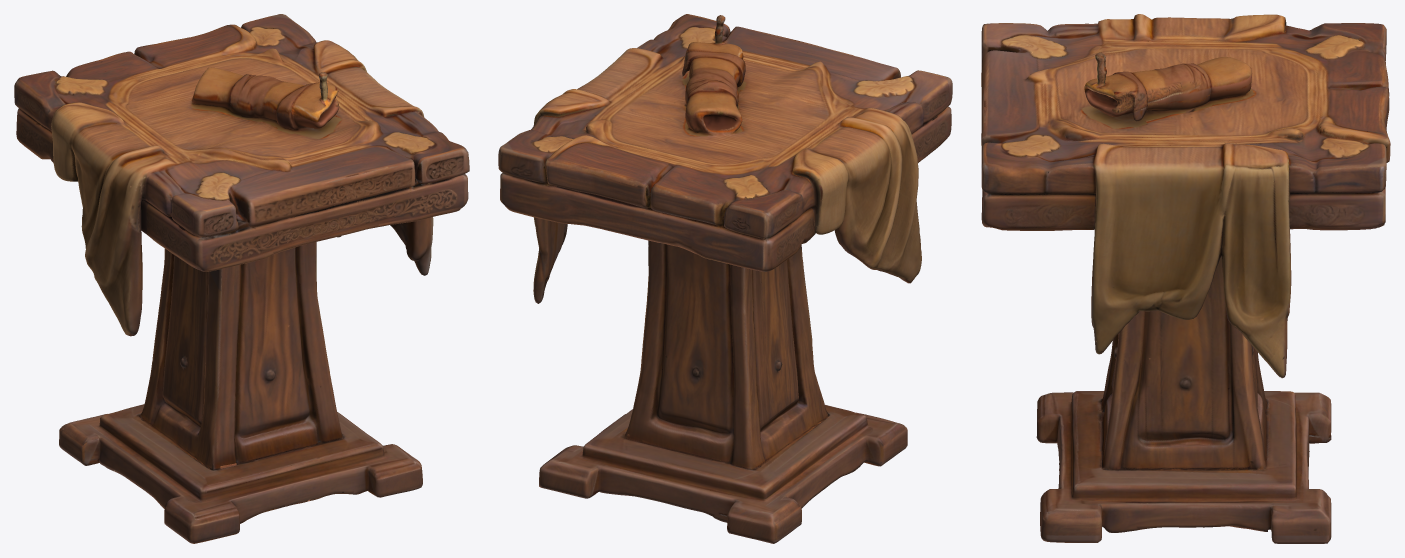
File: Mystic_Scroll_Table_0613145415_texture.fbx
The picture shows the model from 3 angles, left to right: view 1: azimuth 30°, elevation 25°; view 2: azimuth 150°, elevation 25°; view 3: azimuth 270°, elevation 25°; orthographic projection. The views are drawn at different scales.
Visible parts, largest first — view 1: input; view 2: input; view 3: input.
Boxes of the visible parts, <box> form: input: <box>14,14,469,543</box>; input: <box>498,14,952,543</box>; input: <box>981,14,1390,543</box>.
Size of the model in its own units: 157 by 200 by 165.
Materials: 1 (1 with a texture image).
